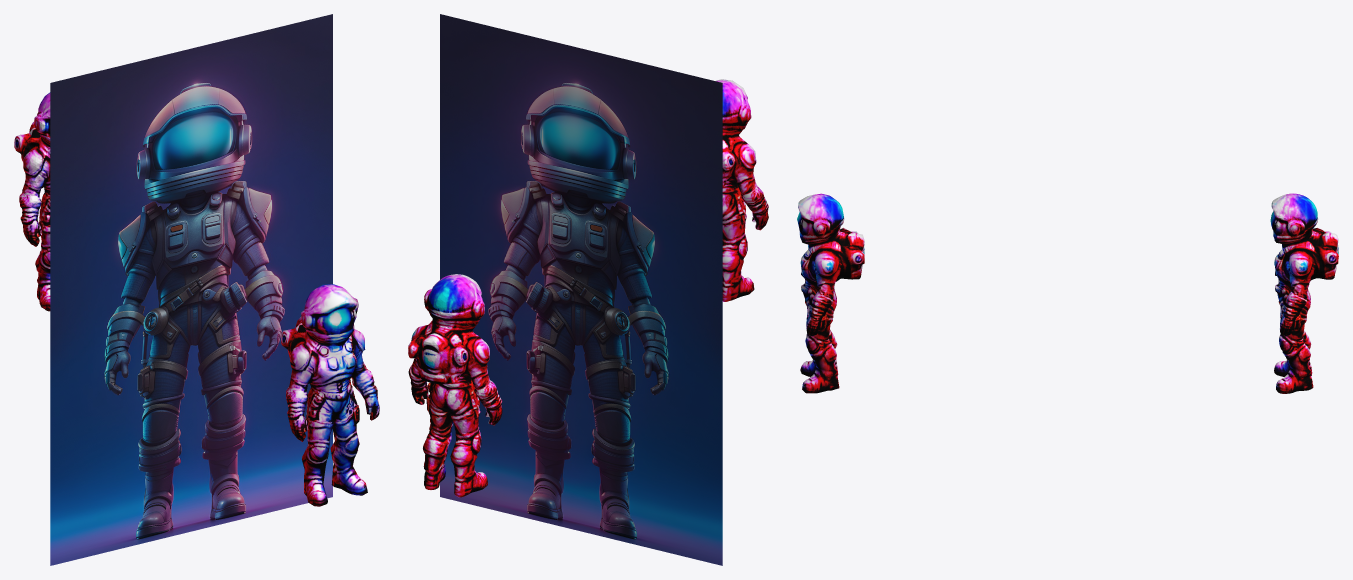
File: astronaut_1.glb
3 views of the same model, side by side, from view 1: azimuth 30°, elevation 25°; view 2: azimuth 150°, elevation 25°; view 3: azimuth 270°, elevation 25° (orthographic). The views are drawn at different scales.
Parts seen in each view (by area): view 1: web_upload_3, ProcessedMeshNode_LOD1_2, mesh.obj_0; view 2: web_upload_3, mesh.obj_0, ProcessedMeshNode_LOD1_2; view 3: mesh.obj_0, ProcessedMeshNode_LOD1_2.
Part boxes in pixels (x1=…): web_upload_3: x1=50, y1=14, x2=332, y2=565; ProcessedMeshNode_LOD1_2: x1=281, y1=284, x2=379, y2=506; mesh.obj_0: x1=14, y1=92, x2=50, y2=311; web_upload_3: x1=440, y1=14, x2=722, y2=565; mesh.obj_0: x1=408, y1=274, x2=502, y2=497; ProcessedMeshNode_LOD1_2: x1=715, y1=79, x2=768, y2=301; mesh.obj_0: x1=1270, y1=193, x2=1338, y2=393; ProcessedMeshNode_LOD1_2: x1=797, y1=193, x2=864, y2=393.
Bounding box in the file's own units: 1.22 × 2 × 2.29.
Materials: 3 (3 with a texture image).
